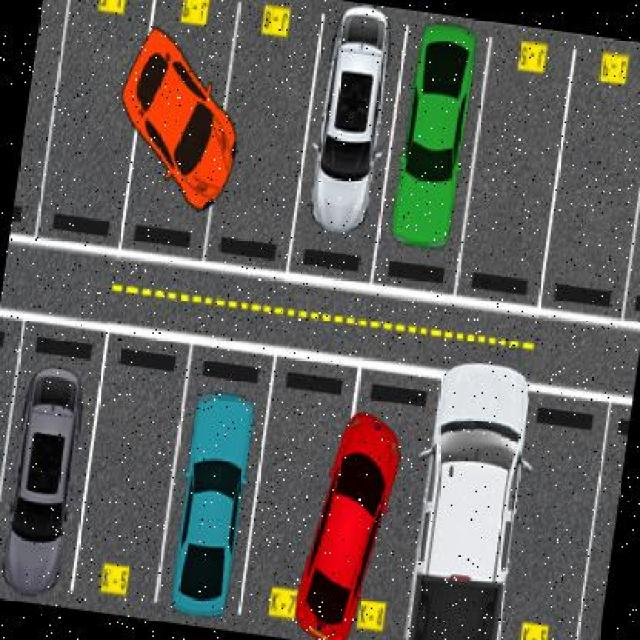Car: (397, 355, 554, 640), (106, 10, 257, 210), (163, 378, 272, 622), (303, 2, 406, 258), (1, 358, 101, 599), (383, 17, 483, 254), (304, 388, 393, 640)
Empty: (463, 30, 574, 269), (80, 369, 186, 609), (501, 410, 610, 640), (38, 3, 150, 223), (544, 40, 640, 294), (220, 22, 317, 235), (254, 399, 340, 615)
